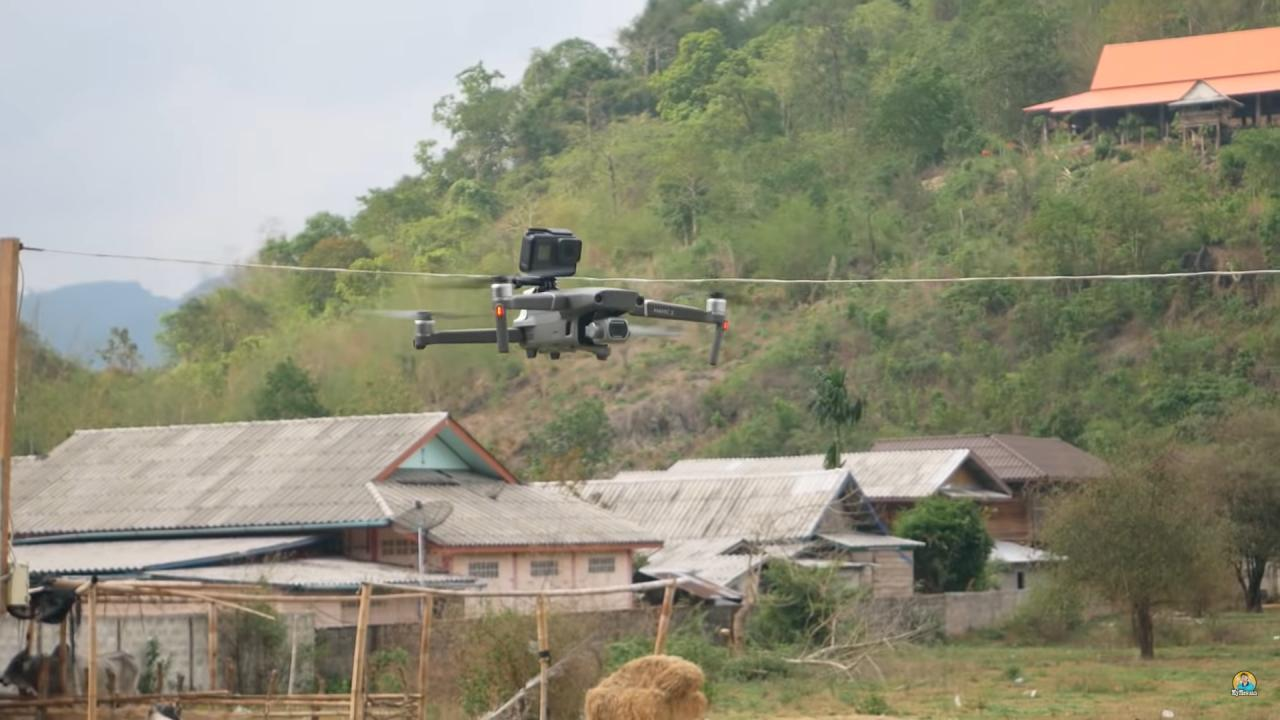Drone: (338, 212, 806, 395)
